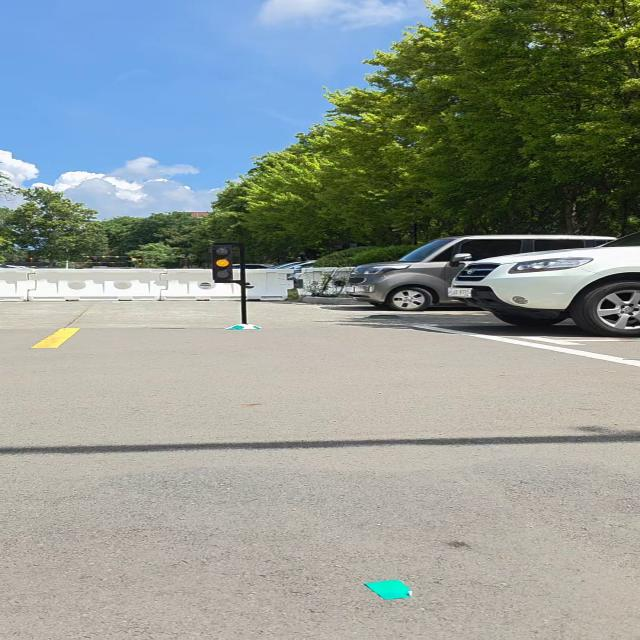yellow: (211, 244, 234, 280)
